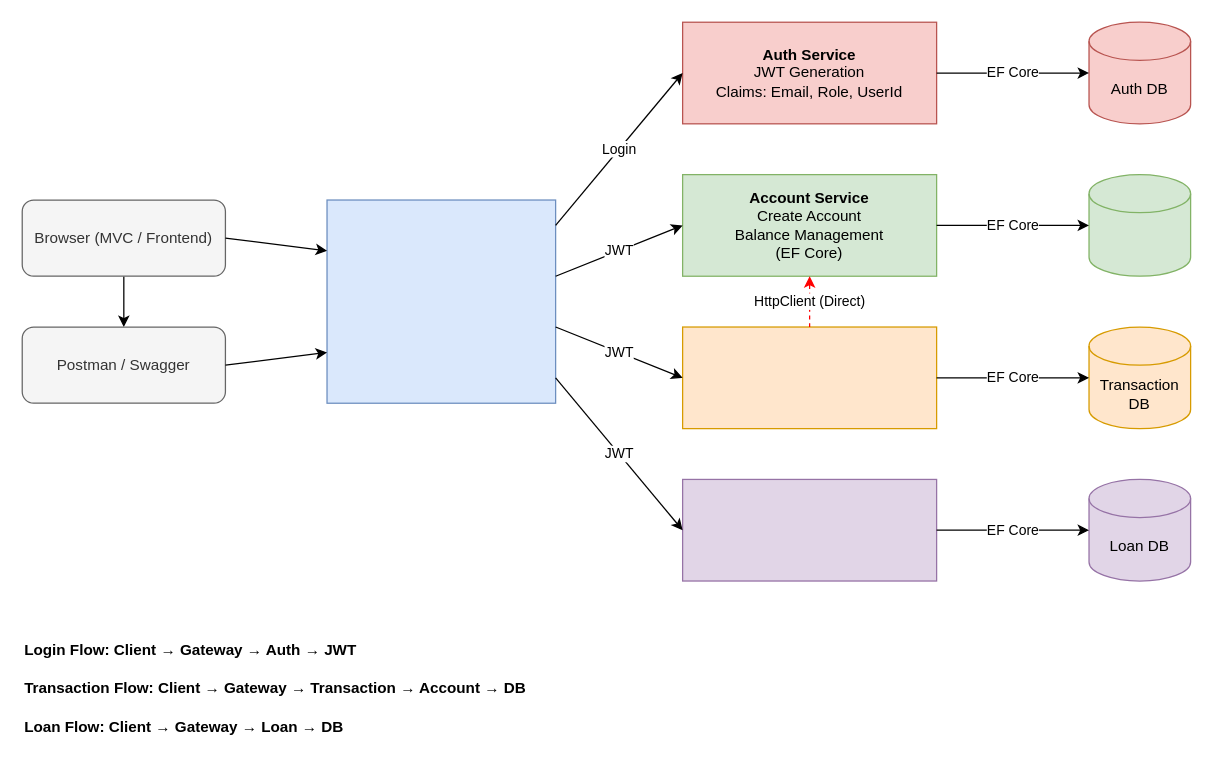
Some shapes in this 1213 by 768 pixel diagram are drawn without their labels. The shapes that lost their labels are listed below. From the top down, each one's centre as x and y in pixels, then its label:
the point at 1139,224: Account DB
the point at 441,301: API Gateway (Port 7000) Routing + JWT Validation
the point at 809,377: Transaction Service Deposit / Withdraw (HttpClient -> Account)
the point at 809,529: Loan Service Apply Loan Approve Loan (EF Core)
